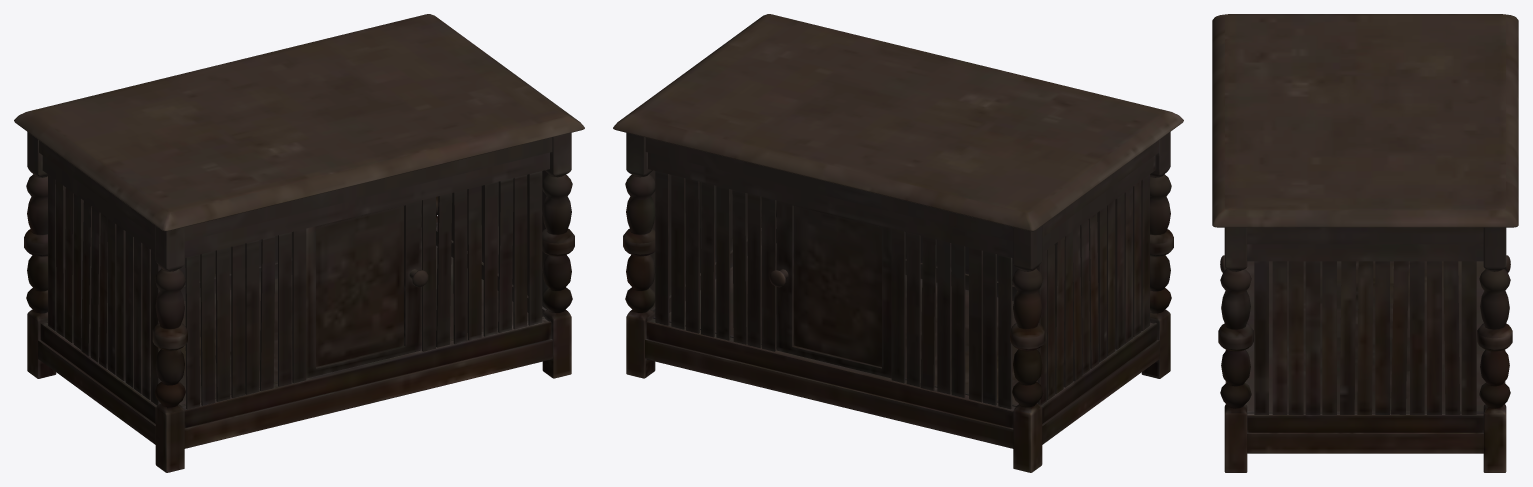
The model's file is gallinera_table.glb.
3 renders of one model, left to right at view 1: azimuth 30°, elevation 25°; view 2: azimuth 150°, elevation 25°; view 3: azimuth 270°, elevation 25°, orthographic.
Parts seen in each view (by area): view 1: gallinera_table; view 2: gallinera_table; view 3: gallinera_table.
Part boxes in pixels (left/top/right/bottom): gallinera_table: left=14, top=14, right=584, bottom=472; gallinera_table: left=613, top=14, right=1183, bottom=472; gallinera_table: left=1212, top=14, right=1518, bottom=472.
Size of the model in its own units: 0.8301 by 0.4878 by 0.5183.
Materials: 1 (1 with a texture image).
